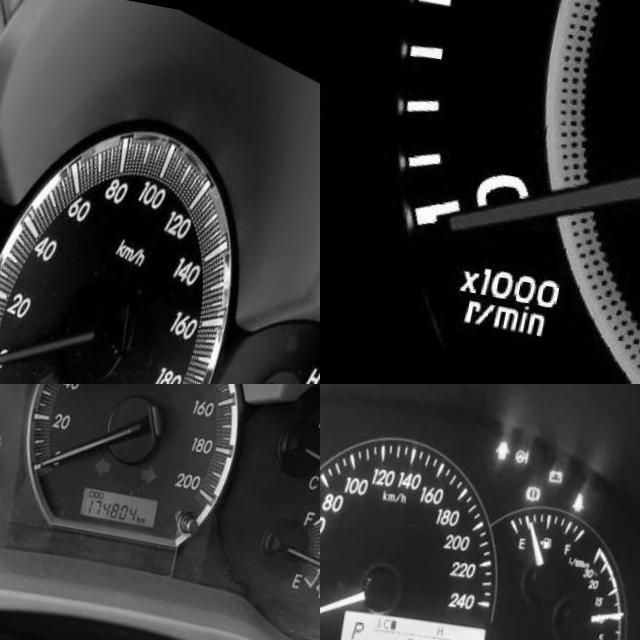Electronic Power Steering: (521, 432, 537, 449)
Seat Belt: (580, 472, 595, 493), (1, 490, 15, 511)
